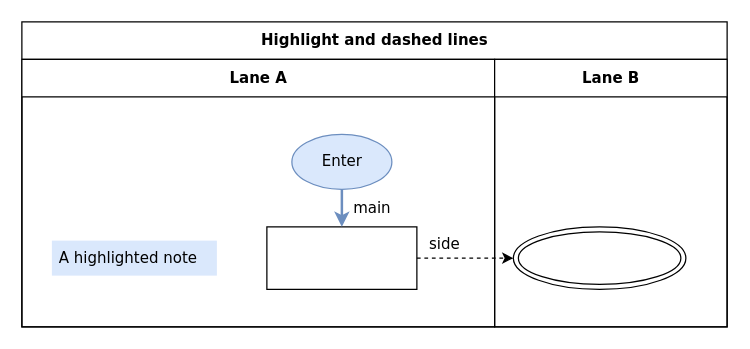
This 750x349 diagram has some shape labels left out. The centre of each missing label's shape, as x and y in pixels:
Handle: the point at 341,257
Side branch: the point at 599,257
